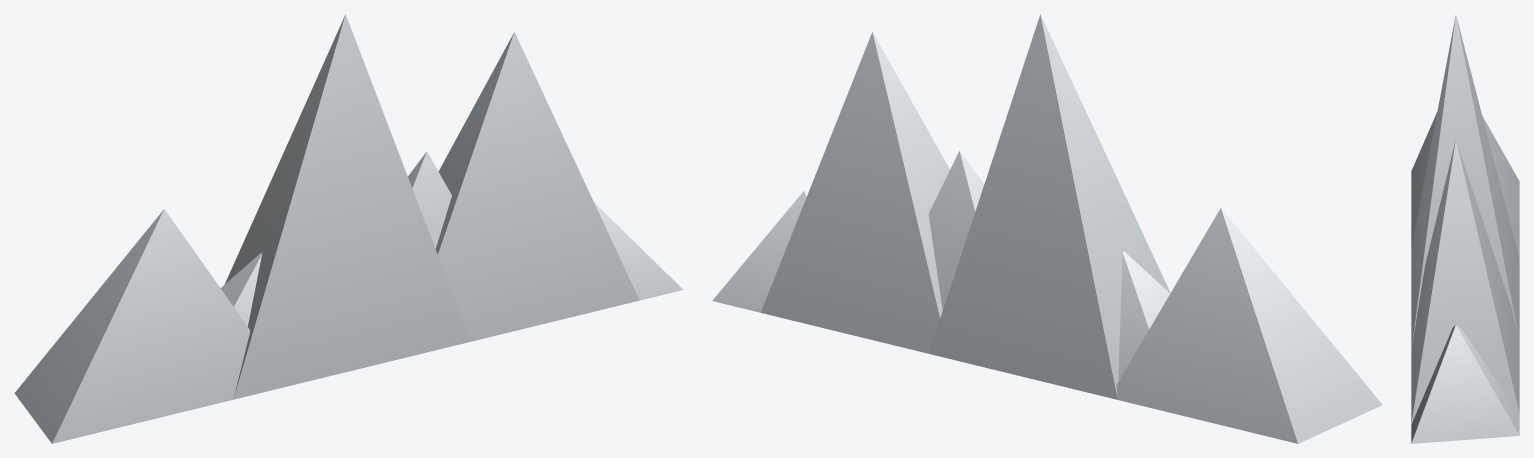
File: MountainRidgeC.fbx
3 renders of one model, left to right at view 1: azimuth 30°, elevation 25°; view 2: azimuth 150°, elevation 25°; view 3: azimuth 270°, elevation 25°, orthographic. The views are drawn at different scales.
Visible parts, largest first — view 1: MountainRidgeC; view 2: MountainRidgeC; view 3: MountainRidgeC.
Boxes of the visible parts, x1,y1,x2,y2 form: MountainRidgeC: (14,14,682,443); MountainRidgeC: (712,14,1382,443); MountainRidgeC: (1411,14,1519,443).
Size of the model in its own units: 101 by 51 by 17.
Materials: 1 (1 with a texture image).
